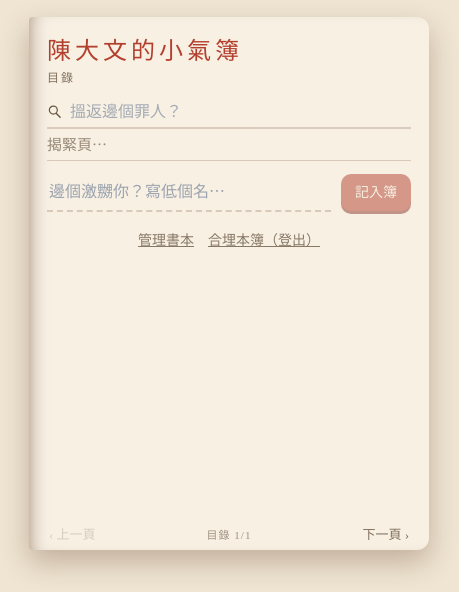
冇網一樣寫得入簿：加咗嘅罪人即刻用鉛筆上頁，而且入咗未寄出
In the field with placeholder "邊個激嬲你？寫低個名⋯": (189, 192) [47,174,331,212], type "阿強"
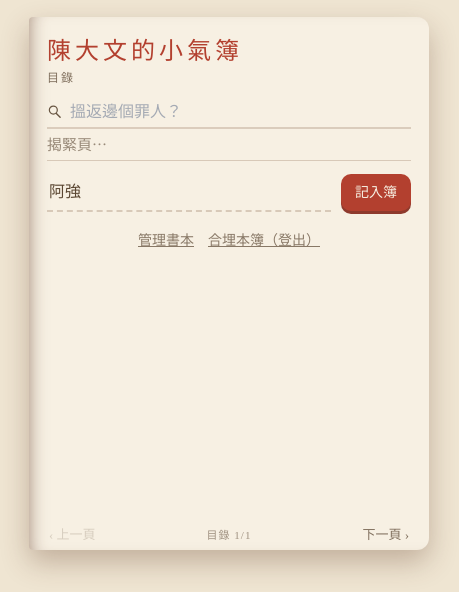
Click the button "記入簿": (376, 192) [341,174,411,211]
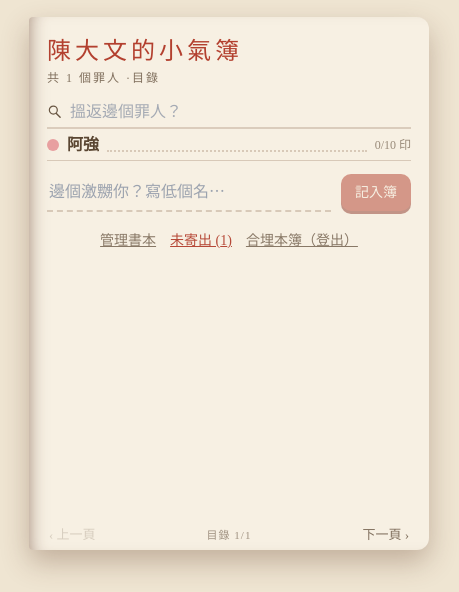
Now the button "未寄出 (1)" is shown, box [170,230,232,251]
